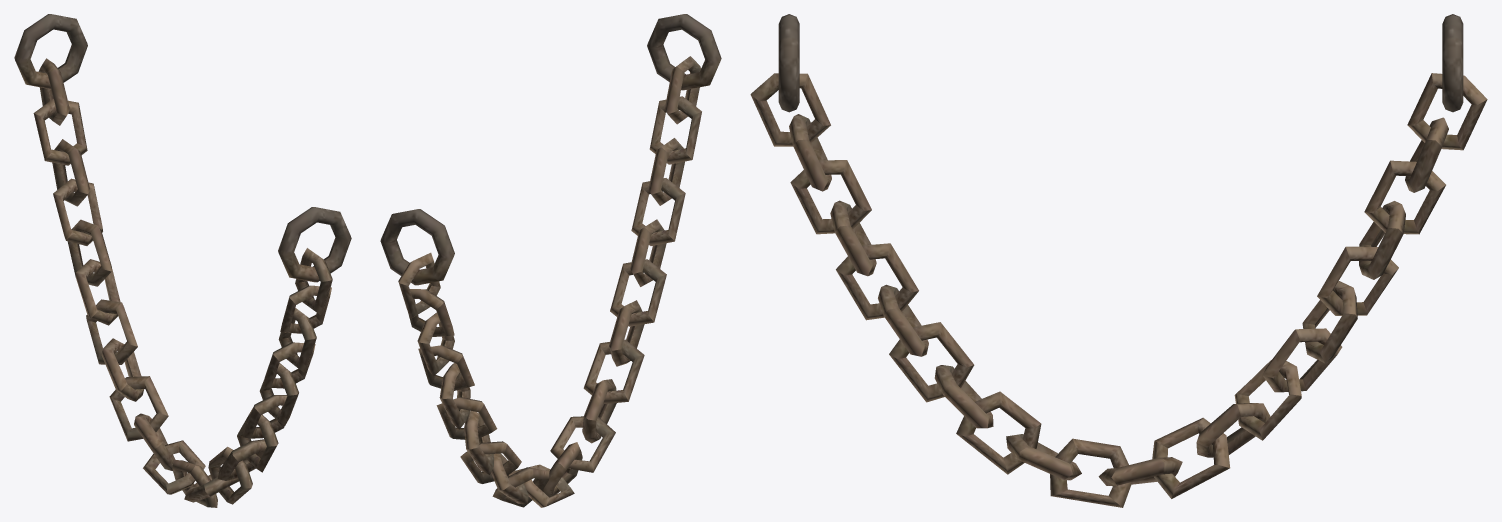
3 views of the same model, side by side, from view 1: azimuth 30°, elevation 25°; view 2: azimuth 150°, elevation 25°; view 3: azimuth 270°, elevation 25° (orthographic). The views are drawn at different scales.
Parts seen in each view (by area): view 1: SM_DR_CeilingChain_Joint_2m_LOD0; view 2: SM_DR_CeilingChain_Joint_2m_LOD0; view 3: SM_DR_CeilingChain_Joint_2m_LOD0.
Part boxes in pixels (x1,y1,x2,y2): SM_DR_CeilingChain_Joint_2m_LOD0: [14, 14, 351, 507]; SM_DR_CeilingChain_Joint_2m_LOD0: [380, 14, 721, 507]; SM_DR_CeilingChain_Joint_2m_LOD0: [750, 14, 1487, 507].
Size of the model in its own units: 0.3157 by 1.62 by 2.22.
1 material, 1 textured.
